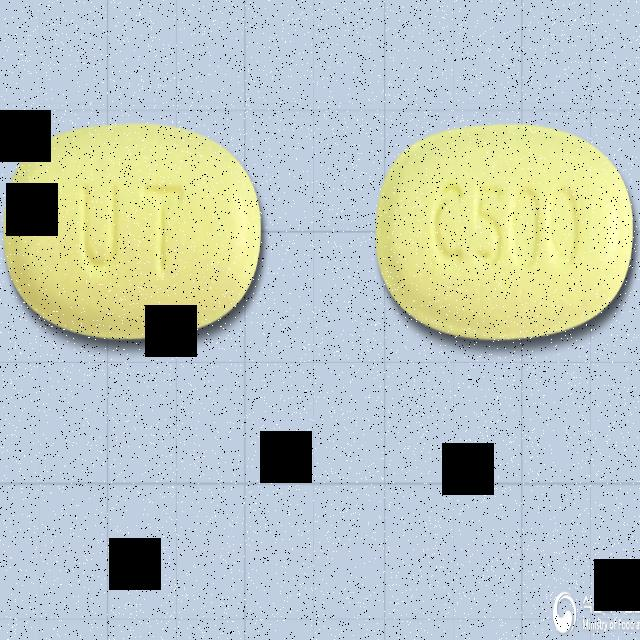Claxin: (3, 119, 265, 348), (374, 118, 638, 344)
